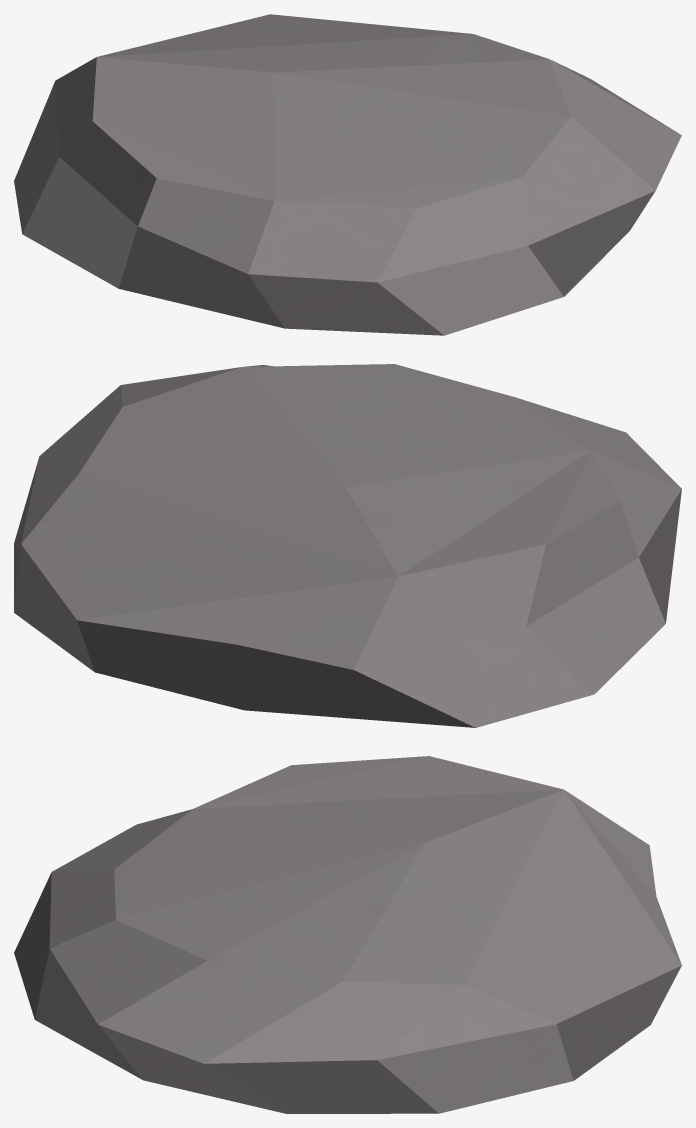
File: Rock_Simple.fbx
3 renders of one model, top to bottom at view 1: azimuth 30°, elevation 25°; view 2: azimuth 150°, elevation 25°; view 3: azimuth 270°, elevation 25°, orthographic. The views are drawn at different scales.
Visible parts, largest first — view 1: Rock_Simple; view 2: Rock_Simple; view 3: Rock_Simple.
Boxes of the visible parts, x1,y1,x2,y2 form: Rock_Simple: (14,14,681,335); Rock_Simple: (14,364,681,727); Rock_Simple: (14,756,681,1113).
Bounding box in the file's own units: 2.21 × 0.4513 × 2.23.
